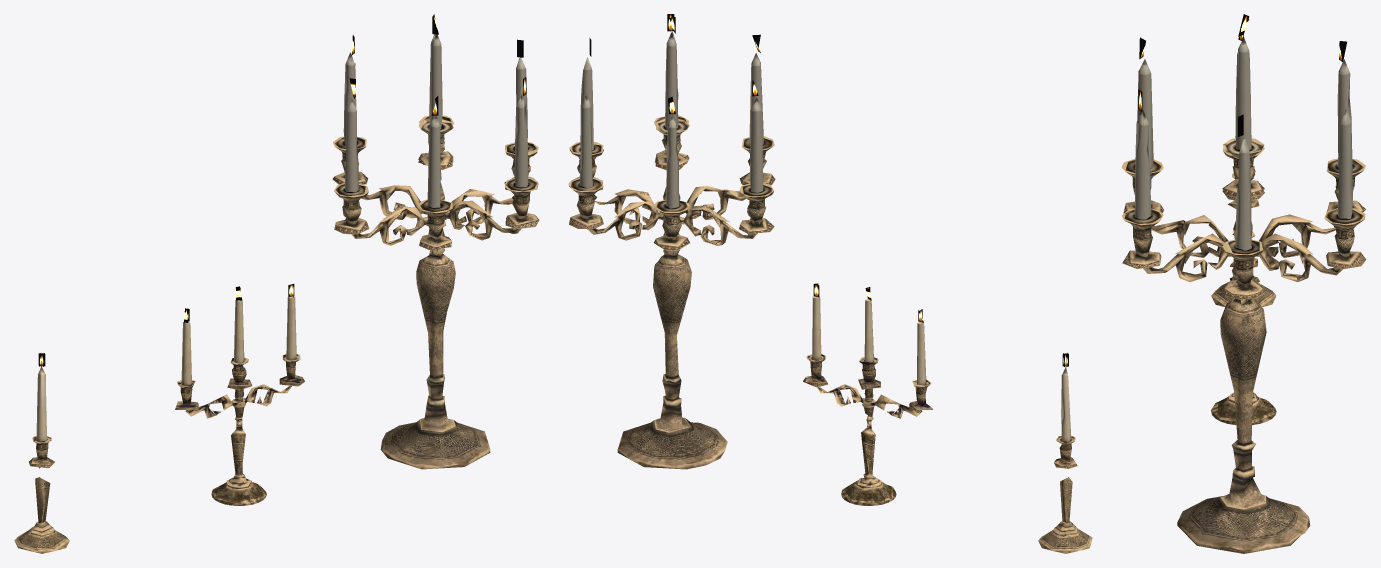
The model's file is brass_candleholders.glb.
3 views of the same model, side by side, from view 1: azimuth 30°, elevation 25°; view 2: azimuth 150°, elevation 25°; view 3: azimuth 270°, elevation 25° (orthographic). The views are drawn at different scales.
Parts seen in each view (by area): view 1: brass_candleholder_03, brass_candleholder_02, brass_candleholder_01; view 2: brass_candleholder_03, brass_candleholder_02, brass_candleholder_01; view 3: brass_candleholder_03, brass_candleholder_02, brass_candleholder_01.
Boxes of the visible parts, x1,y1,x2,y2 form: brass_candleholder_03: (332,14,539,469); brass_candleholder_02: (175,284,304,505); brass_candleholder_01: (14,353,69,553); brass_candleholder_03: (568,14,775,469); brass_candleholder_02: (803,283,932,505); brass_candleholder_01: (1038,353,1092,553); brass_candleholder_03: (1121,14,1366,553); brass_candleholder_02: (1211,231,1276,425); brass_candleholder_01: (1211,173,1276,307).
Size of the model in its own units: 1.05 by 0.8353 by 0.364.
Materials: 5 (5 with a texture image).
